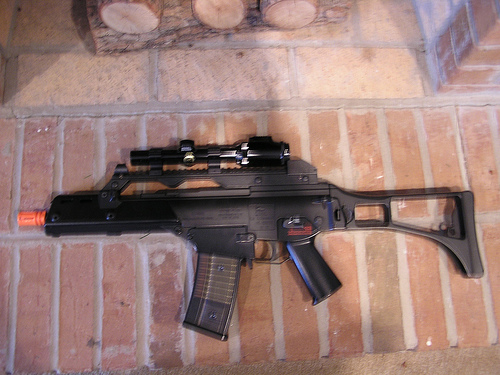rifle: (14, 130, 485, 343)
